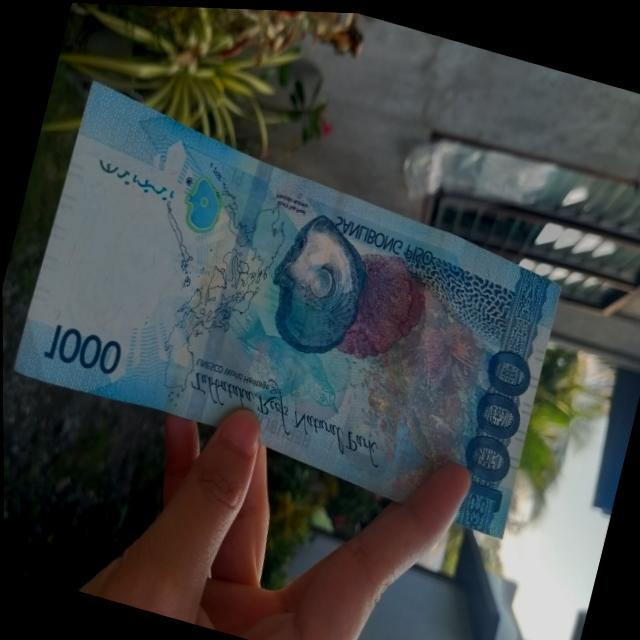security_thread: (183, 158, 272, 422)
see_through_mark: (85, 147, 184, 209)
watermark: (49, 159, 189, 347)
